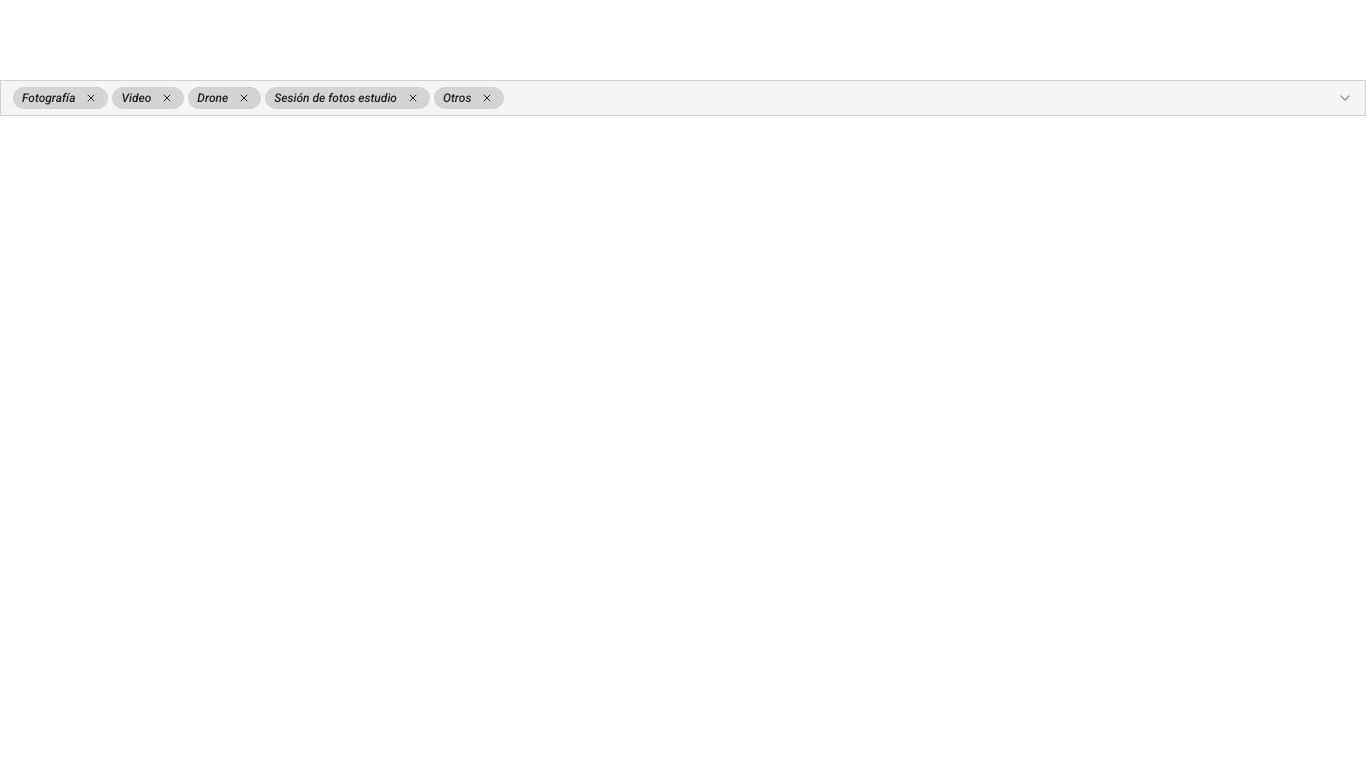
Scenario: MultiSelect Component › shows "Todas las opciones seleccionadas" when all options are selected
# Click the combobox trigger
Click the dropdown at (61, 98), box top-left (0, 80), bottom-right (1365, 116)
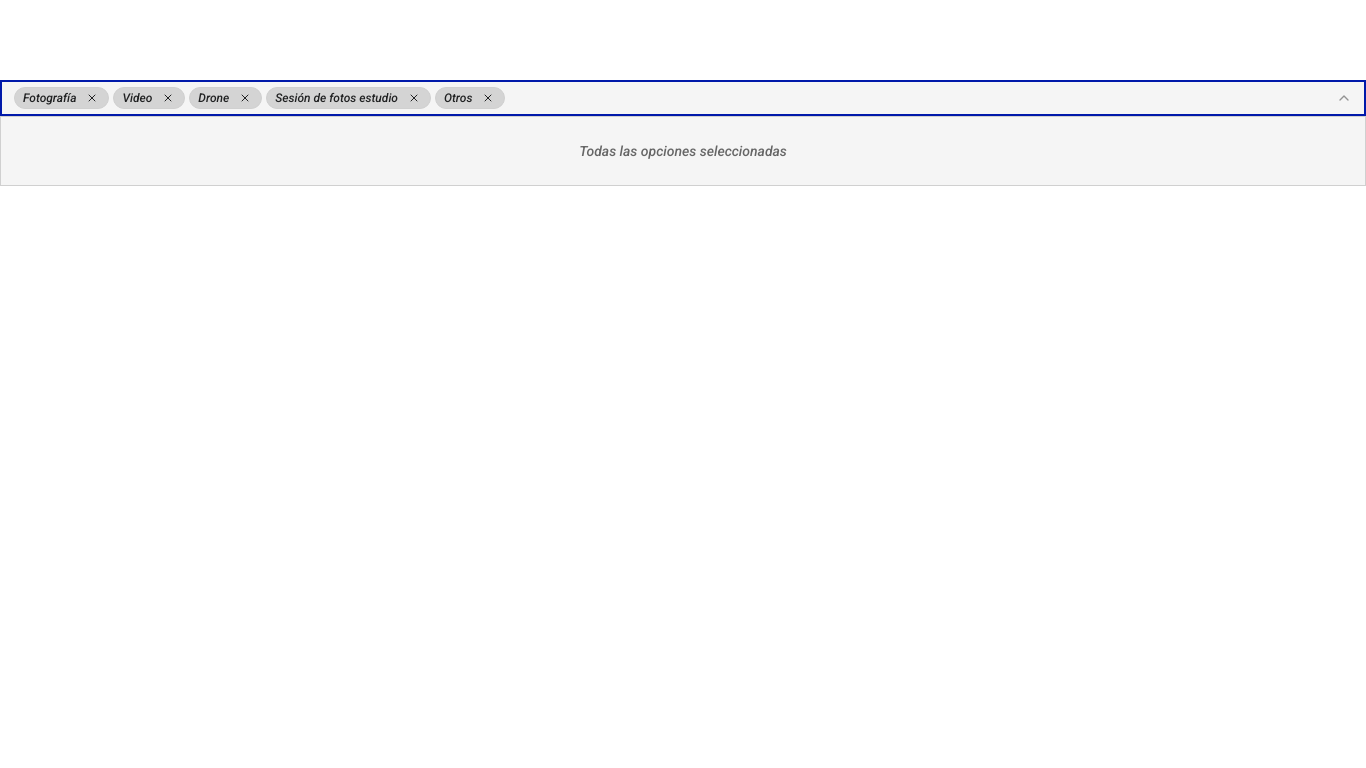
expect the text "Todas las opciones seleccionadas" is shown: met, box top-left (579, 143), bottom-right (787, 159)
